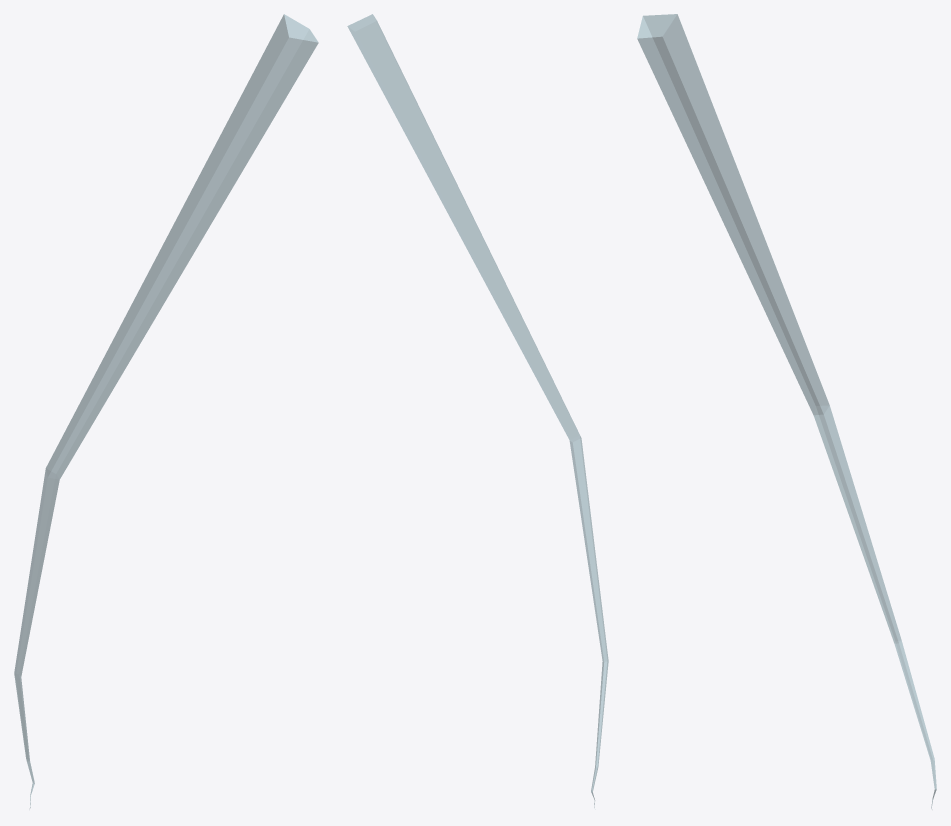
File: Lighting.fbx
3 renders of one model, left to right at view 1: azimuth 30°, elevation 25°; view 2: azimuth 210°, elevation 25°; view 3: azimuth 270°, elevation 25°, orthographic. The views are drawn at different scales.
Visible parts, largest first — view 1: Cube; view 2: Cube; view 3: Cube.
Boxes of the visible parts, x1,y1,x2,y2 form: Cube: (14, 14, 318, 807); Cube: (347, 14, 608, 807); Cube: (637, 14, 936, 808).
Size of the model in its own units: 7249 by 32172 by 10155.
